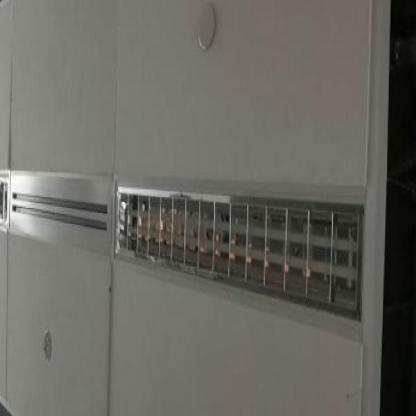light_off: (116, 172, 368, 332), (0, 164, 13, 230)
